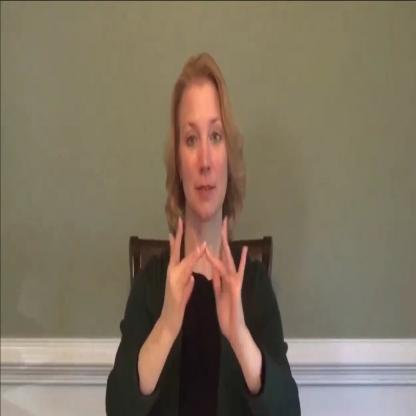Internet: (161, 205, 243, 362)
